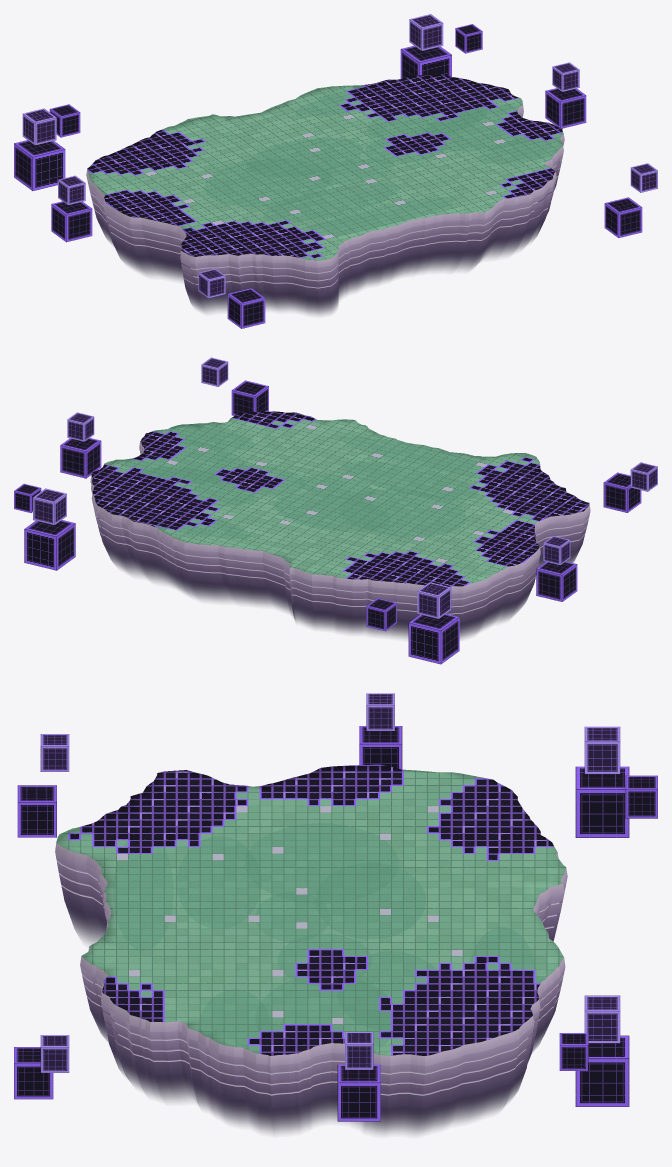
The model's file is digi_farm_3d.glb.
The picture shows the model from 3 angles, top to bottom: view 1: azimuth 30°, elevation 25°; view 2: azimuth 150°, elevation 25°; view 3: azimuth 270°, elevation 25°; orthographic projection. The views are drawn at different scales.
Parts seen in each view (by area): view 1: Island, VoxelBlockNear01_01, VoxelBlockNear03_01, VoxelBlockNear04_01, VoxelBlockNear02_01, VoxelBlockNear05_01, VoxelBlockNear06_01, VoxelBlockNear01_02, VoxelBlockNear02_02, VoxelBlockNear01_03, VoxelBlockNear02_03, VoxelBlockNear03_02 (+3 smaller); view 2: Island, VoxelBlockNear01_01, VoxelBlockNear02_01, VoxelBlockNear03_01, VoxelBlockNear04_01, VoxelBlockNear05_01, VoxelBlockNear06_01, VoxelBlockNear01_02, VoxelBlockNear02_02, VoxelBlockNear01_03, VoxelBlockNear03_02, VoxelBlockNear06_02 (+3 smaller); view 3: Island, VoxelBlockNear01_01, VoxelBlockNear02_01, VoxelBlockNear04_01, VoxelBlockNear05_01, VoxelBlockNear01_02, VoxelBlockNear06_01, VoxelBlockNear02_02, VoxelBlockNear03_01, VoxelBlockNear01_03, VoxelBlockNear02_03, VoxelBlockNear05_02 (+3 smaller).
Part boxes in pixels (box(x1,y1,x2,y2)): Island: box(86, 74, 564, 314); VoxelBlockNear01_01: box(14, 140, 65, 190); VoxelBlockNear03_01: box(51, 201, 92, 242); VoxelBlockNear04_01: box(545, 88, 586, 128); VoxelBlockNear02_01: box(400, 46, 451, 78); VoxelBlockNear05_01: box(227, 288, 265, 328); VoxelBlockNear06_01: box(604, 197, 642, 237); VoxelBlockNear01_02: box(22, 108, 56, 145); VoxelBlockNear02_02: box(409, 14, 443, 50); VoxelBlockNear01_03: box(49, 104, 80, 137); VoxelBlockNear02_03: box(455, 24, 482, 53); VoxelBlockNear03_02: box(58, 175, 85, 205); Island: box(90, 411, 590, 639); VoxelBlockNear01_01: box(408, 613, 459, 664); VoxelBlockNear02_01: box(24, 520, 75, 570); VoxelBlockNear03_01: box(536, 561, 577, 601); VoxelBlockNear04_01: box(60, 438, 101, 478); VoxelBlockNear05_01: box(603, 472, 641, 512); VoxelBlockNear06_01: box(231, 380, 268, 415); VoxelBlockNear01_02: box(417, 582, 451, 618); VoxelBlockNear02_02: box(33, 488, 66, 525); VoxelBlockNear01_03: box(366, 598, 396, 631); VoxelBlockNear03_02: box(543, 536, 570, 565); VoxelBlockNear06_02: box(201, 357, 228, 386); Island: box(55, 764, 567, 1134); VoxelBlockNear01_01: box(575, 766, 629, 837); VoxelBlockNear02_01: box(575, 1035, 629, 1106); VoxelBlockNear04_01: box(337, 1064, 380, 1121); VoxelBlockNear05_01: box(17, 785, 56, 837); VoxelBlockNear01_02: box(584, 726, 620, 774); VoxelBlockNear06_01: box(14, 1047, 53, 1099); VoxelBlockNear02_02: box(584, 995, 620, 1043); VoxelBlockNear03_01: box(359, 726, 402, 769); VoxelBlockNear01_03: box(625, 775, 657, 818); VoxelBlockNear02_03: box(559, 1033, 588, 1070); VoxelBlockNear05_02: box(40, 734, 69, 771).
Size of the model in its own units: 2.36 by 0.49 by 1.8.
Materials: 4 (4 with a texture image).
